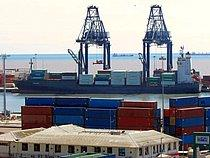Ship: (16, 50, 210, 94)
